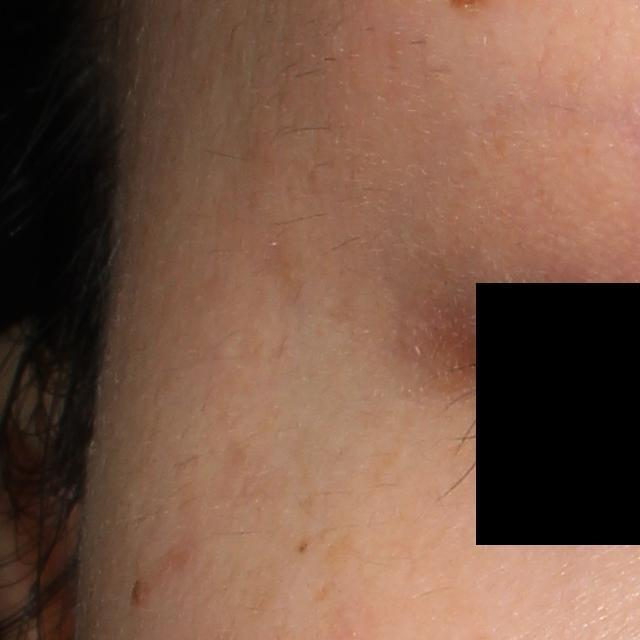nevus: (128, 578, 146, 607)
